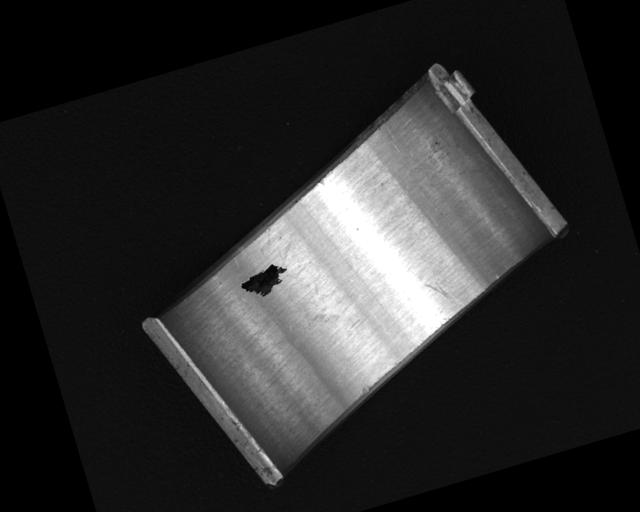blot: (271, 287, 343, 339), (235, 257, 293, 303)
bruise: (359, 384, 370, 396), (317, 177, 328, 188)
nick: (423, 274, 465, 318)
